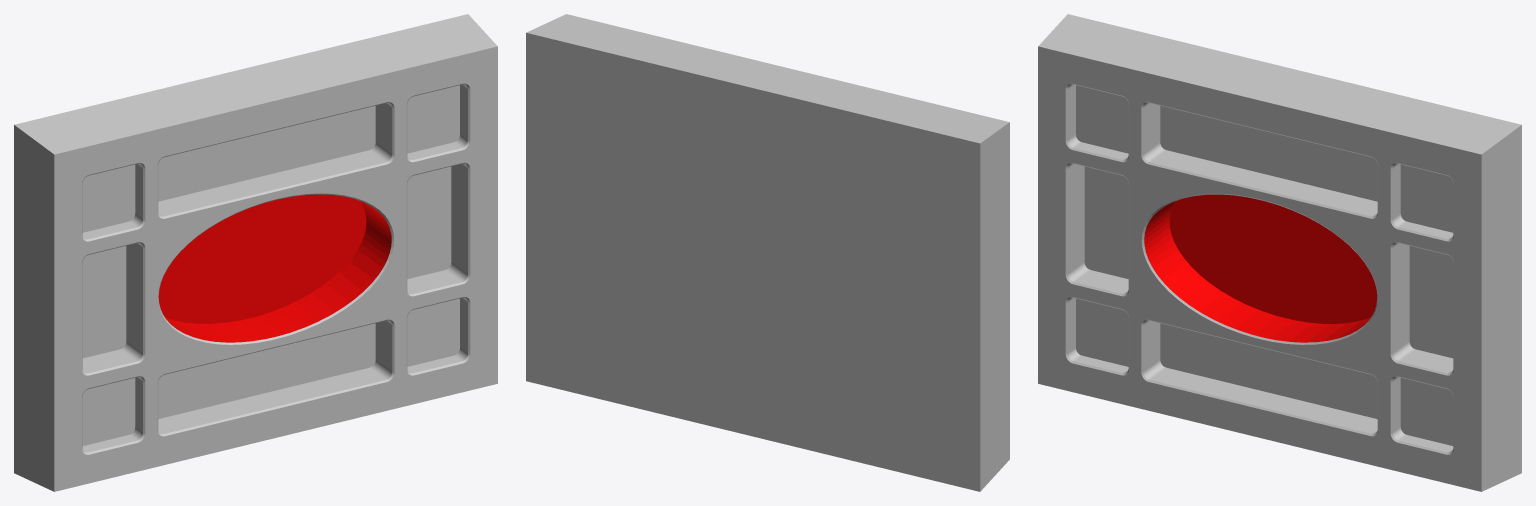
The model's file is TESTE_M2_SF_stp_18_19_20.obj.
3 views of the same model, side by side, from view 1: azimuth 30°, elevation 25°; view 2: azimuth 150°, elevation 25°; view 3: azimuth 330°, elevation 25° (orthographic).
Visible parts, largest first — view 1: Object1; view 2: Object1; view 3: Object1.
Boxes of the visible parts, box(x1,y1,x2,y2) form: Object1: box(14, 14, 497, 491); Object1: box(526, 14, 1009, 491); Object1: box(1038, 14, 1521, 491).
Size of the model in its own units: 150 by 110 by 20.
